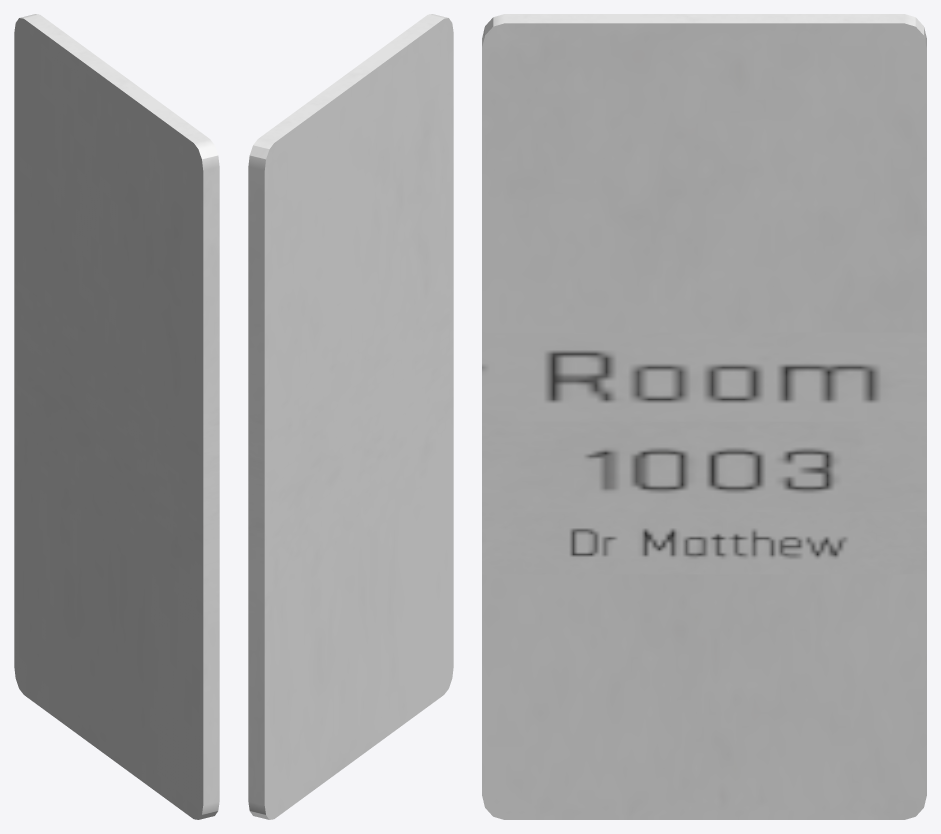
The picture shows the model from 3 angles, left to right: view 1: azimuth 30°, elevation 25°; view 2: azimuth 150°, elevation 25°; view 3: azimuth 270°, elevation 25°; orthographic projection. The views are drawn at different scales.
Visible parts, largest first — view 1: pCube30; view 2: pCube30; view 3: pCube30.
Boxes of the visible parts, bbox=[...] form: pCube30: bbox=[14, 14, 219, 819]; pCube30: bbox=[248, 14, 453, 819]; pCube30: bbox=[482, 14, 926, 819].
Bounding box in the file's own units: 0.0309 × 1.22 × 0.6162.
1 material, 1 textured.
